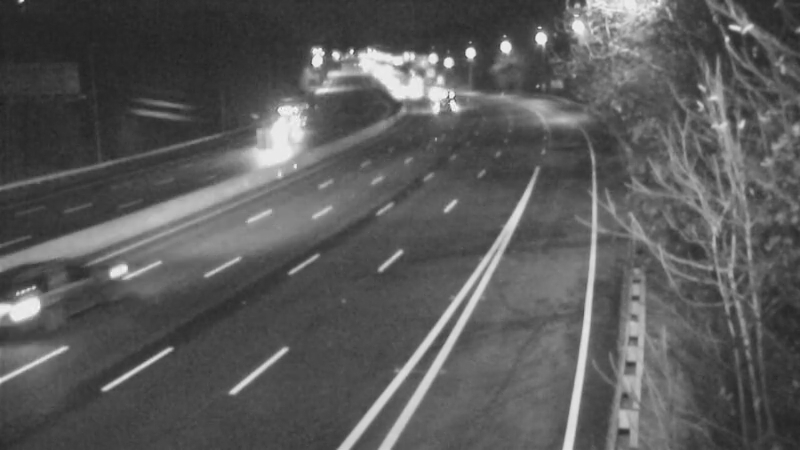vehicle: (21, 249, 101, 329), (375, 67, 425, 117), (420, 75, 470, 125), (257, 117, 307, 167)
